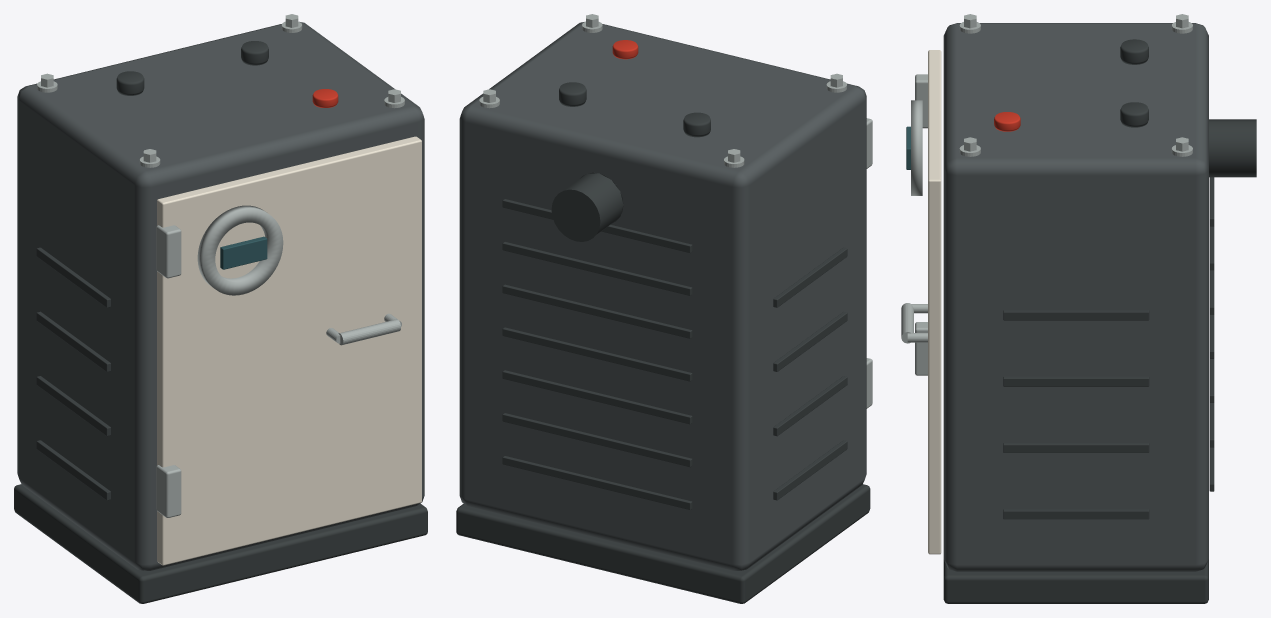
Rendered from museum-conservation-and-art-restoration-museum-conserv-ace5f191__31876.glb.
The picture shows the model from 3 angles, left to right: view 1: azimuth 30°, elevation 25°; view 2: azimuth 150°, elevation 25°; view 3: azimuth 270°, elevation 25°; orthographic projection. The views are drawn at different scales.
Visible parts, largest first — view 1: museum-conservation-and-art-restoration-vacuum-control-pedes (×5); view 2: museum-conservation-and-art-restoration-vacuum-control-pedes (×3); view 3: museum-conservation-and-art-restoration-vacuum-control-pedes (×4).
Boxes of the visible parts, x1,y1,x2,y2 form: museum-conservation-and-art-restoration-vacuum-control-pedes (×5): (14, 14, 427, 603); museum-conservation-and-art-restoration-vacuum-control-pedes (×3): (456, 14, 872, 603); museum-conservation-and-art-restoration-vacuum-control-pedes (×4): (901, 14, 1256, 603).
Bounding box in the file's own units: 0.672 × 0.95 × 0.67.
